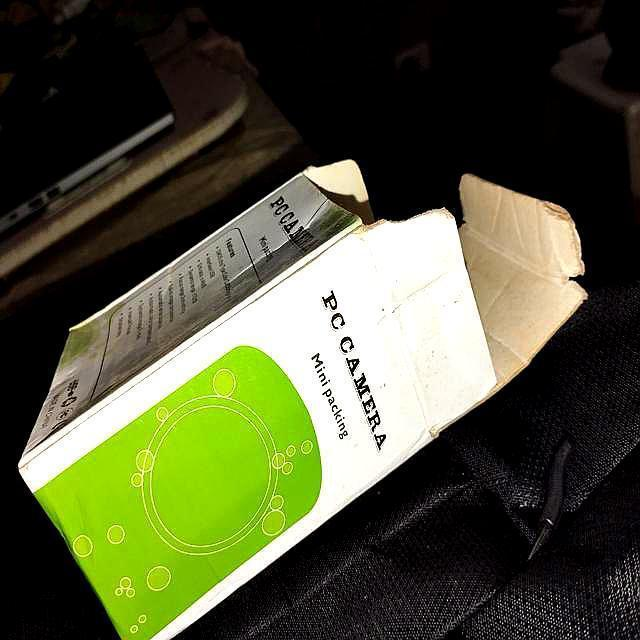Biodegradable: (17, 159, 591, 640)
